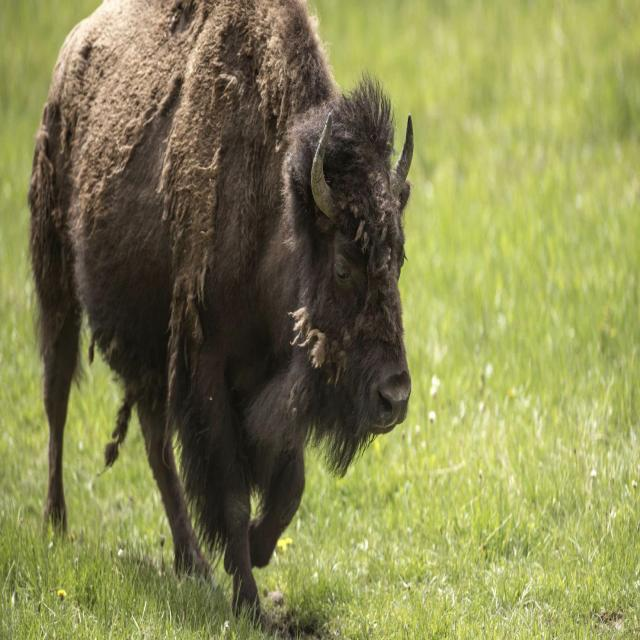bison: (28, 0, 413, 627)
